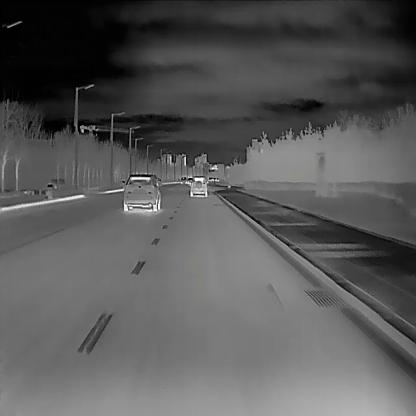car: (121, 173, 160, 211), (189, 176, 207, 197), (180, 176, 186, 184), (186, 176, 192, 184), (207, 177, 214, 182), (212, 178, 216, 180), (216, 177, 218, 181)
